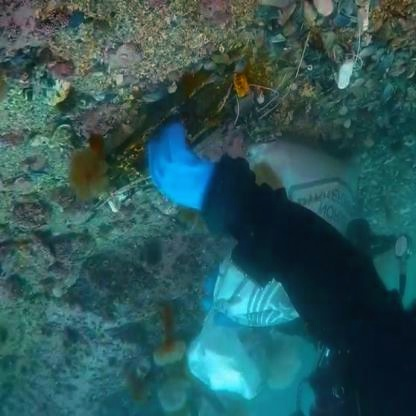electronics: (101, 96, 220, 152)
plastic: (186, 258, 288, 388)
